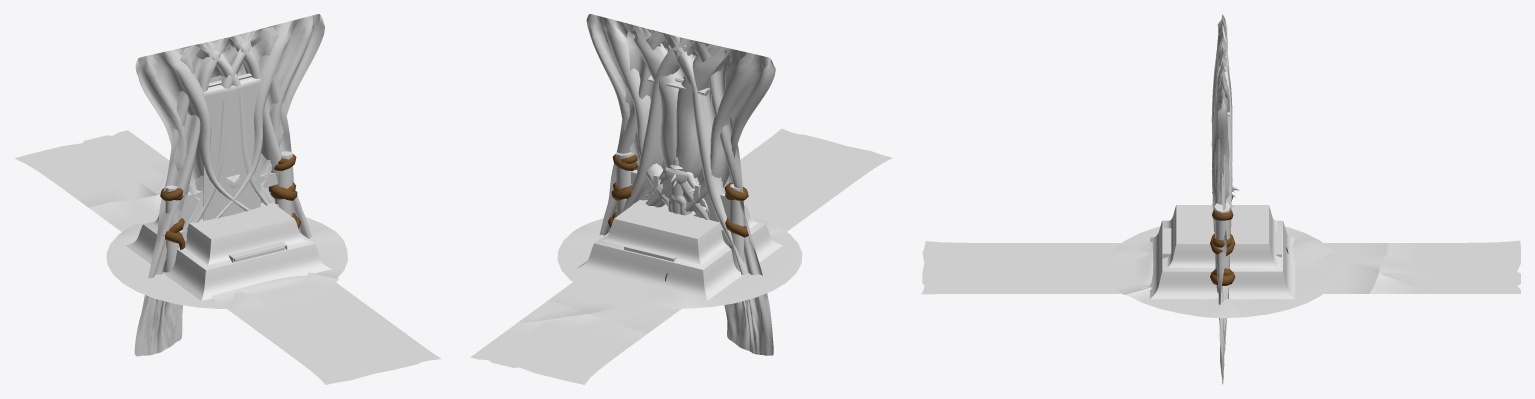
File: NovosAssets.fbx
3 renders of one model, left to right at view 1: azimuth 30°, elevation 25°; view 2: azimuth 150°, elevation 25°; view 3: azimuth 270°, elevation 25°, orthographic. The views are drawn at different scales.
Parts seen in each view (by area): view 1: Carpet, Curtain.L, StatueBase, Curtain.R, CircleCarpet, Flamula, FenceFull, FenceBroken, Bed; view 2: Carpet, Curtain.L, Curtain.R, StatueBase, CircleCarpet, FenceFull, TransformedBody, FenceBroken, ArmorPlate; view 3: Carpet, StatueBase, CircleCarpet, Curtain.R, Curtain.L, FenceFull, FenceBroken.
Boxes of the visible parts, x1,y1,x2,y2 form: Carpet: (14,130,441,384); Curtain.L: (134,14,324,356); StatueBase: (125,202,331,300); Curtain.R: (135,27,311,238); CircleCarpet: (106,217,347,308); Flamula: (203,73,260,220); FenceFull: (160,151,301,272); FenceBroken: (179,151,292,222); Bed: (229,241,287,263); Carpet: (470,128,892,384); Curtain.L: (586,14,773,355); Curtain.R: (599,27,775,235); StatueBase: (577,200,782,300); CircleCarpet: (557,215,802,308); FenceFull: (608,151,748,271); TransformedBody: (645,157,709,215); FenceBroken: (616,152,729,221); ArmorPlate: (653,167,700,196); Carpet: (921,240,1520,294); StatueBase: (1150,205,1295,299); CircleCarpet: (1105,226,1338,318); Curtain.R: (1211,14,1232,384); Curtain.L: (1211,38,1232,210); FenceFull: (1210,196,1235,285); FenceBroken: (1214,202,1230,292).
Bounding box in the file's own units: 390 × 526 × 994.
